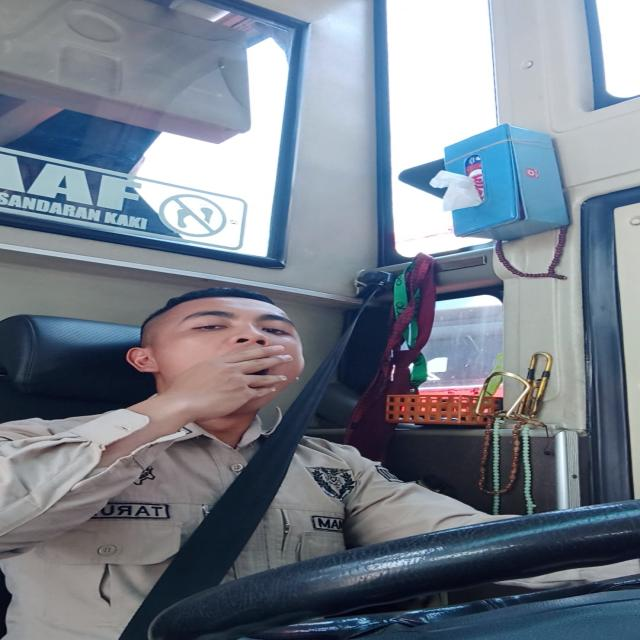3: (182, 430, 314, 568)
no-seatbelt: (152, 287, 312, 418)
